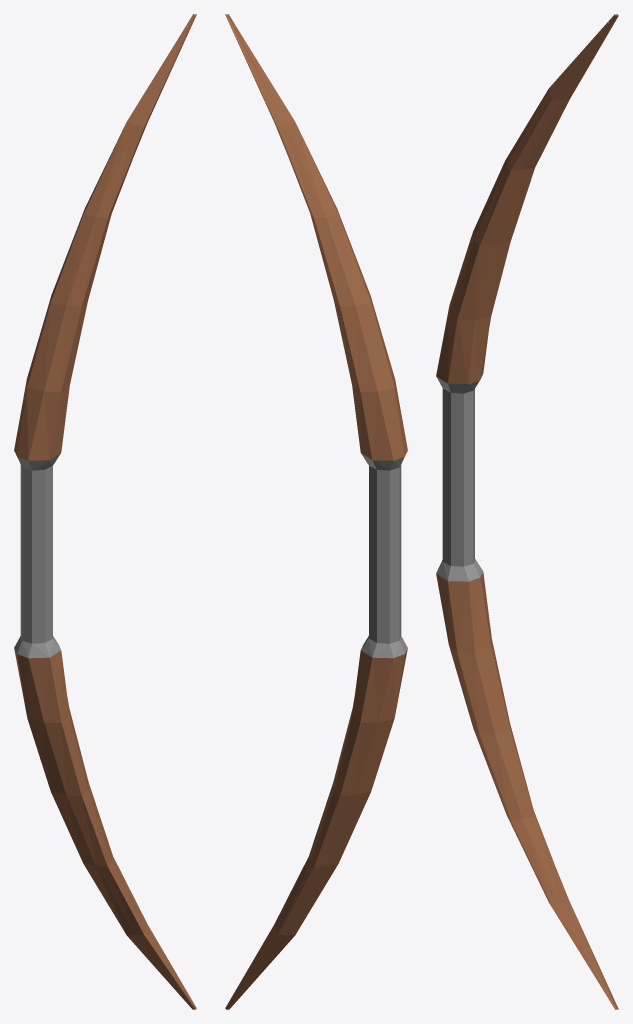
The model's file is arc_sanslacorde.glb.
3 views of the same model, side by side, from view 1: azimuth 30°, elevation 25°; view 2: azimuth 150°, elevation 25°; view 3: azimuth 330°, elevation 25° (orthographic).
Parts seen in each view (by area): view 1: Bow_01_Cube.013; view 2: Bow_01_Cube.013; view 3: Bow_01_Cube.013.
Boxes of the visible parts, box(x1,y1,x2,y2) form: Bow_01_Cube.013: box(14, 14, 196, 1009); Bow_01_Cube.013: box(225, 14, 407, 1009); Bow_01_Cube.013: box(436, 14, 618, 1009).
Bounding box in the file's own units: 0.902 × 4.76 × 0.2301.
